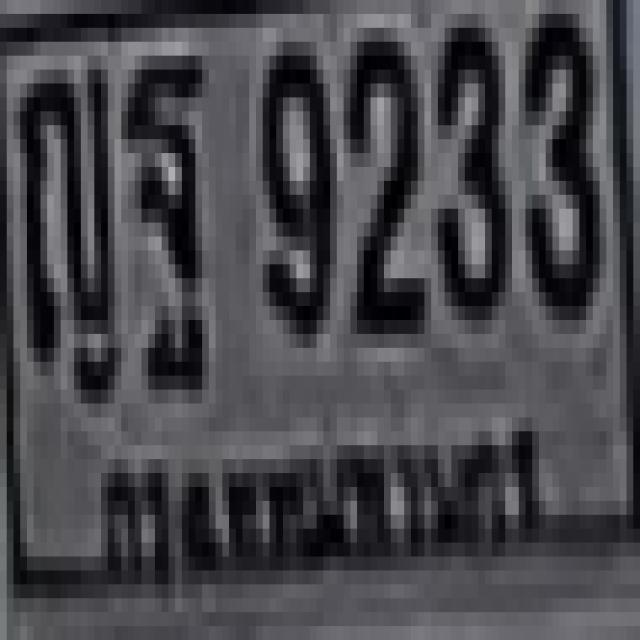-: (17, 56, 111, 362), (121, 48, 202, 354)
2: (347, 21, 421, 327)
3: (519, 0, 593, 306), (431, 14, 505, 306)
9: (256, 35, 330, 327)
BKK: (82, 394, 554, 600)
